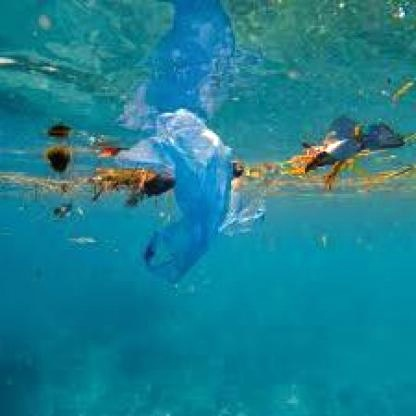pbag: (113, 107, 235, 285)
